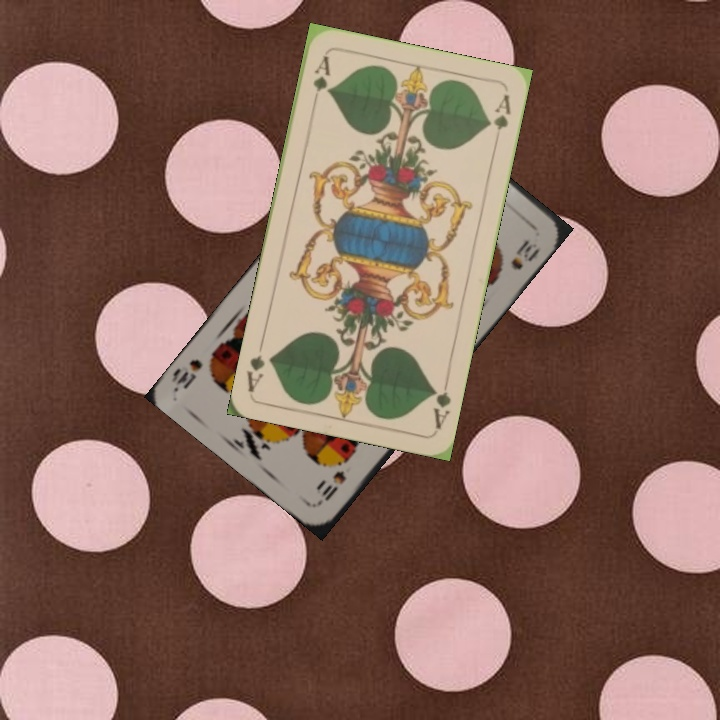GA: (428, 373, 454, 432), (308, 51, 334, 109)
S10: (317, 466, 349, 504)
